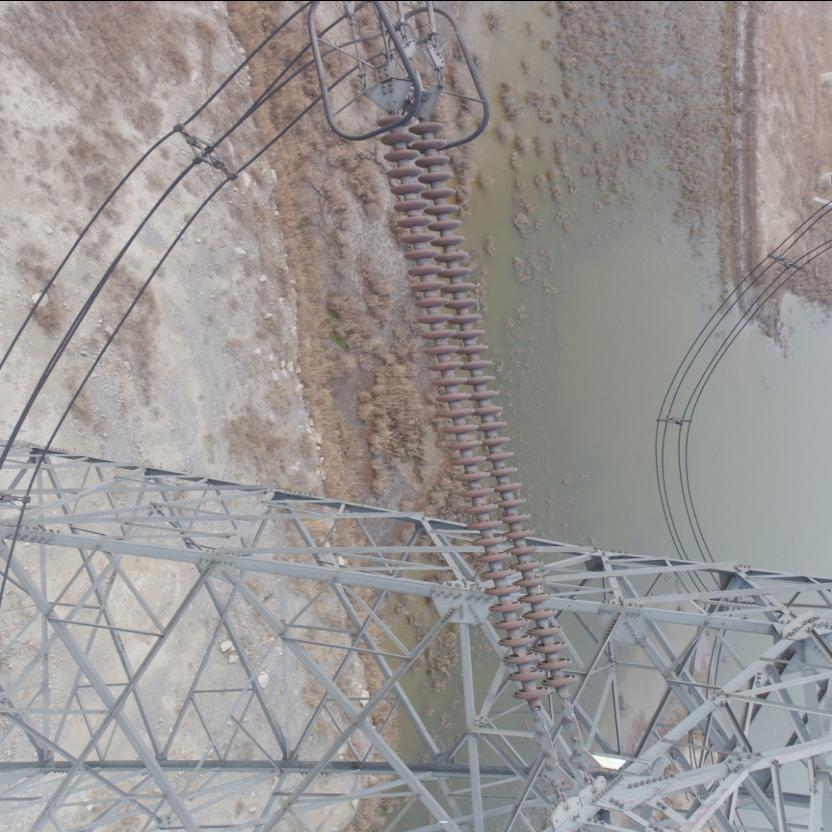insulator: (371, 98, 584, 748)
